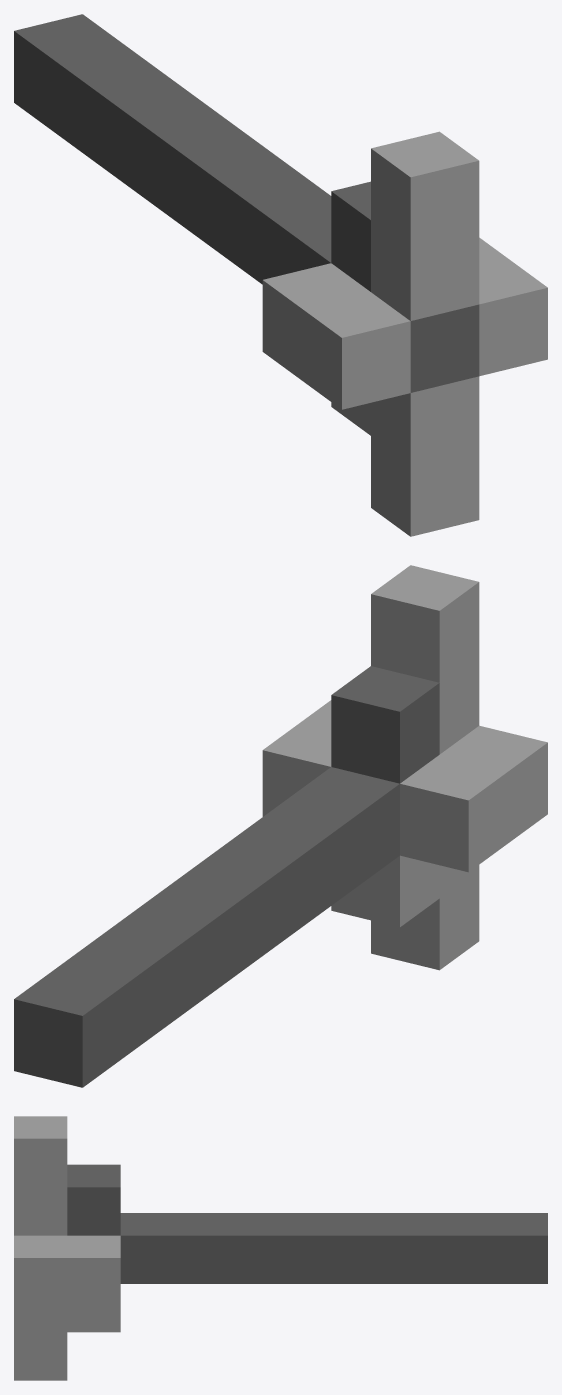
The model's file is jotunheim-0.obj.
3 renders of one model, top to bottom at view 1: azimuth 30°, elevation 25°; view 2: azimuth 150°, elevation 25°; view 3: azimuth 270°, elevation 25°, orthographic. The views are drawn at different scales.
Bounding box in the file's own units: 0.3 × 0.5 × 1.
1 material, 1 textured.
